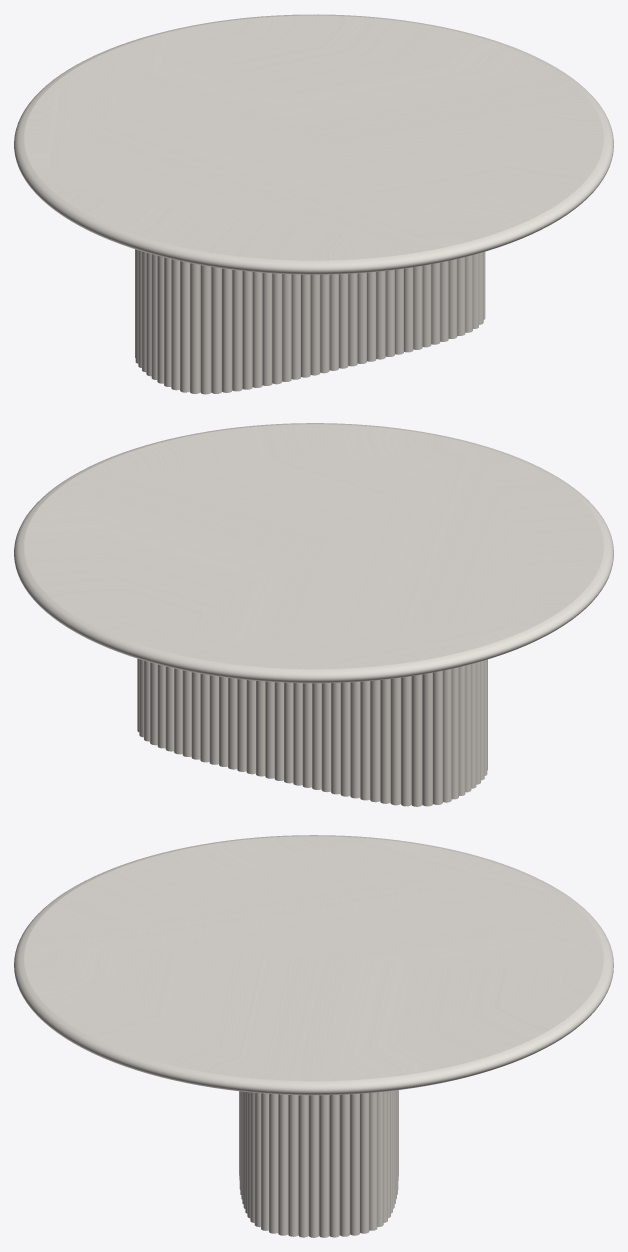
File: pearlwhite_round_round_newtable.glb
3 views of the same model, one above another, from view 1: azimuth 30°, elevation 25°; view 2: azimuth 150°, elevation 25°; view 3: azimuth 270°, elevation 25° (orthographic).
Parts seen in each view (by area): view 1: round_round, newtable; view 2: round_round, newtable; view 3: round_round, newtable.
Part boxes in pixels (bbox=[...]): round_round: bbox=[14, 14, 613, 274]; newtable: bbox=[135, 249, 485, 394]; round_round: bbox=[14, 423, 613, 683]; newtable: bbox=[137, 658, 487, 806]; round_round: bbox=[14, 835, 613, 1095]; newtable: bbox=[239, 1090, 398, 1237].
Size of the model in its own units: 6.75 by 2.5 by 6.75.
Materials: 2 (2 with a texture image).
